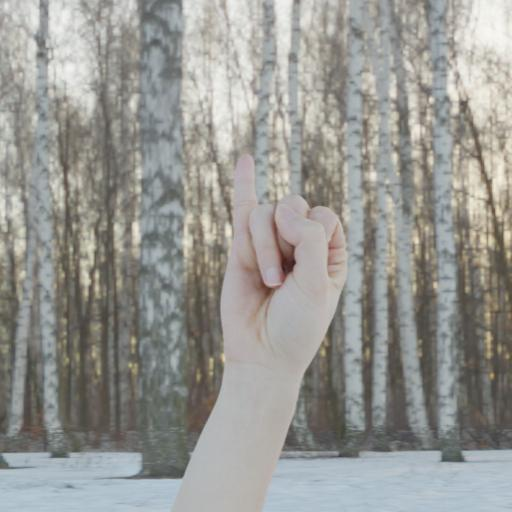I: (220, 153, 352, 377)
